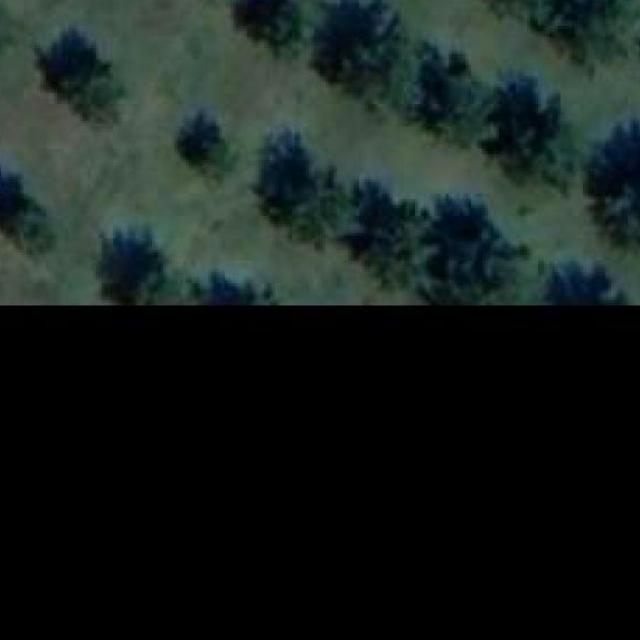Tree: (26, 22, 135, 132), (312, 0, 416, 113), (340, 176, 419, 298), (465, 0, 640, 54), (415, 199, 505, 303), (486, 73, 564, 182), (402, 31, 483, 130), (585, 128, 640, 250), (256, 129, 318, 227), (0, 154, 57, 258), (532, 253, 626, 314), (96, 225, 167, 303), (171, 110, 236, 194), (180, 261, 278, 309), (227, 0, 303, 57), (0, 0, 23, 98)
